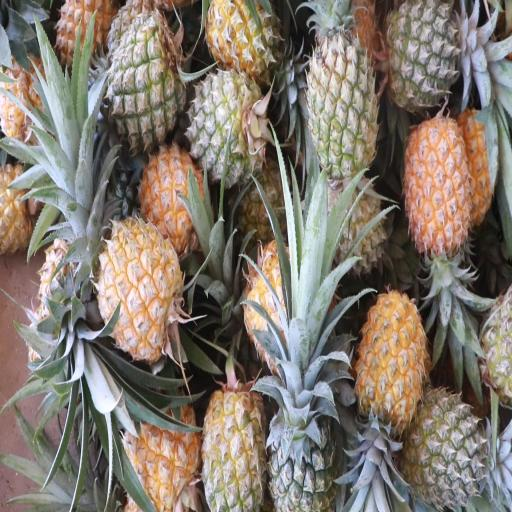Pineapple - v8 v1: (95, 216, 186, 372), (353, 288, 428, 439), (402, 110, 474, 264), (198, 371, 269, 512), (138, 140, 214, 260), (206, 4, 292, 88), (53, 0, 119, 85)
